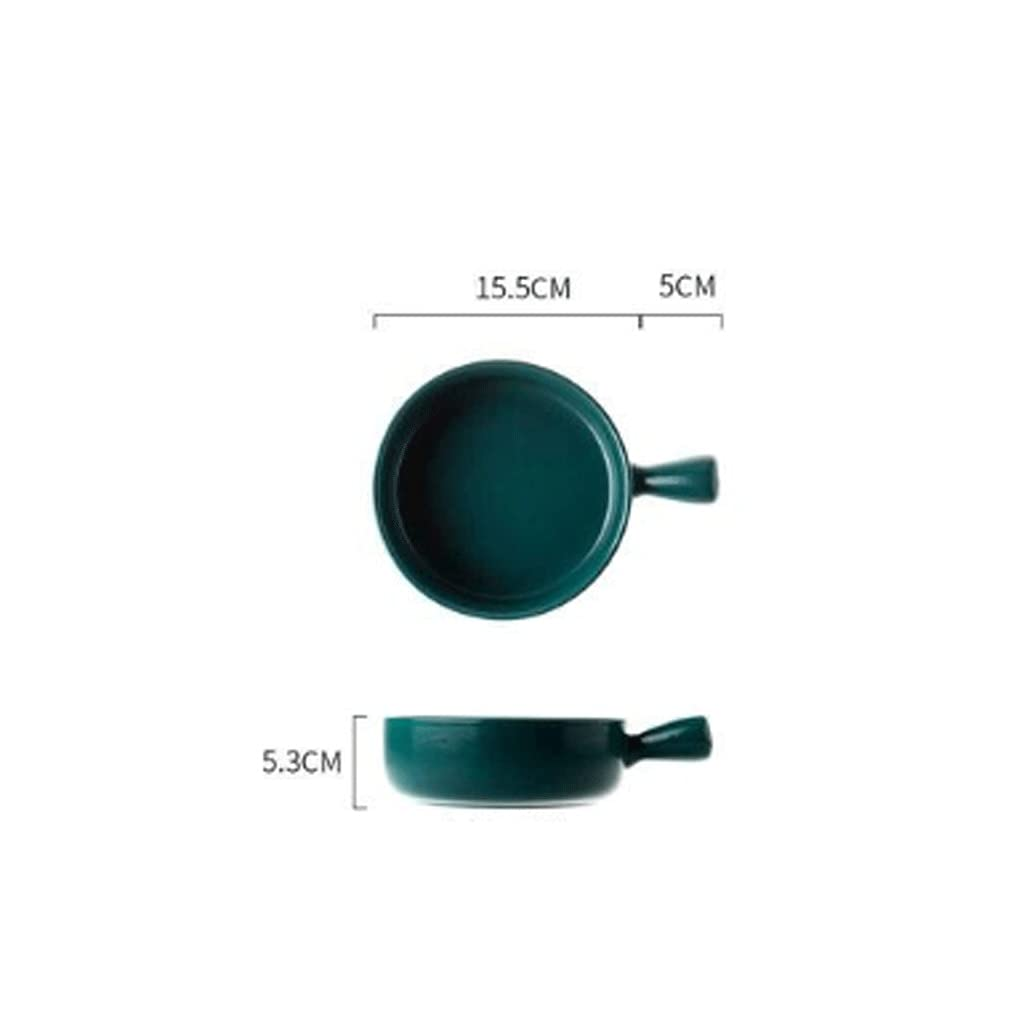15.5CM: (479, 276, 570, 298)
5.3CM: (264, 750, 340, 773)
